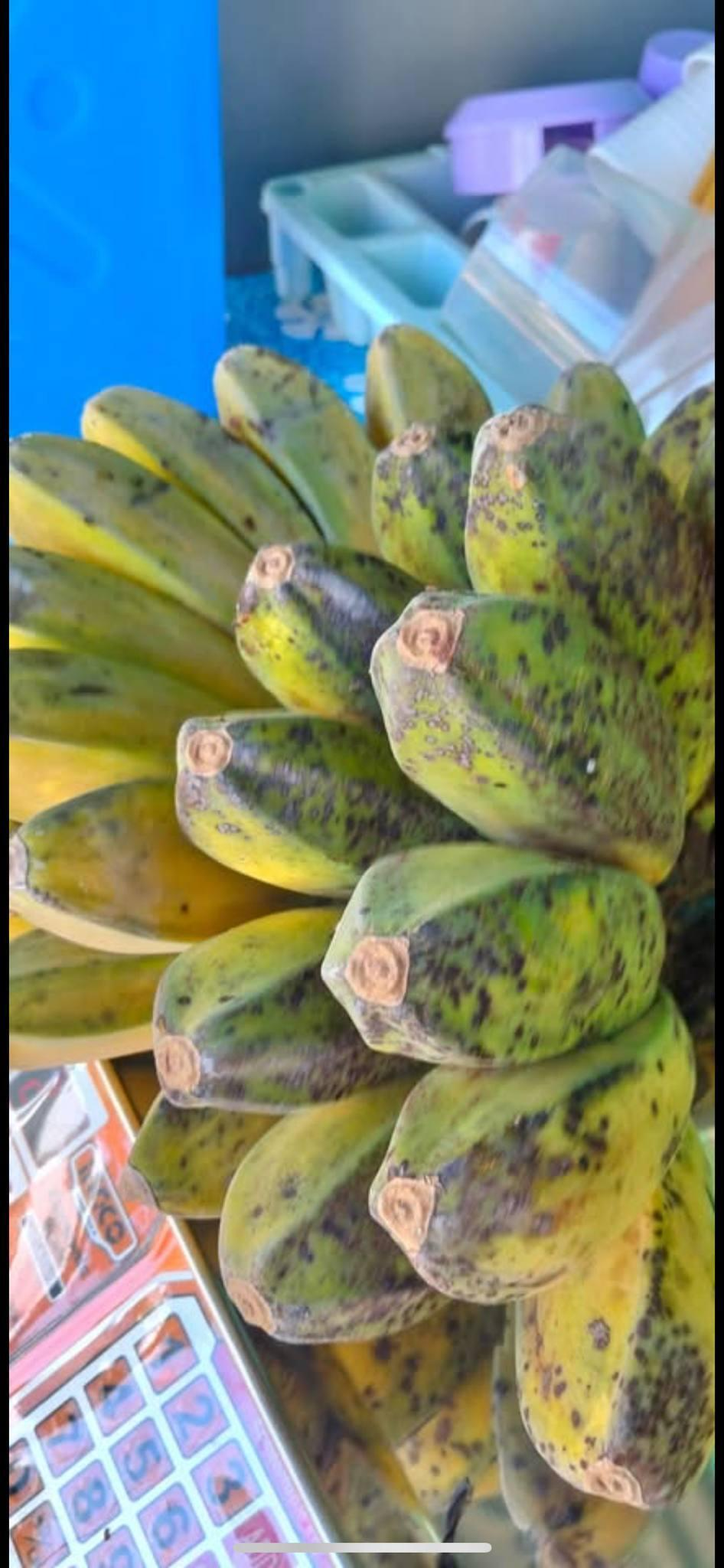underripe: (126, 368, 718, 1567), (9, 326, 490, 1069)
